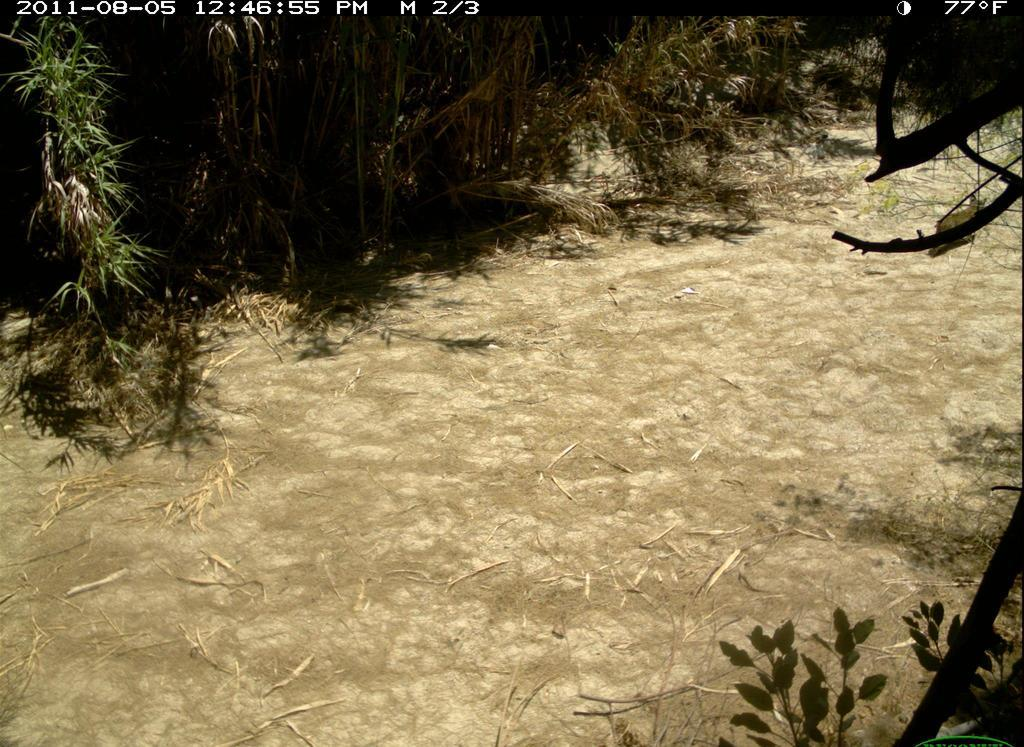bobcat: (927, 186, 994, 268)
